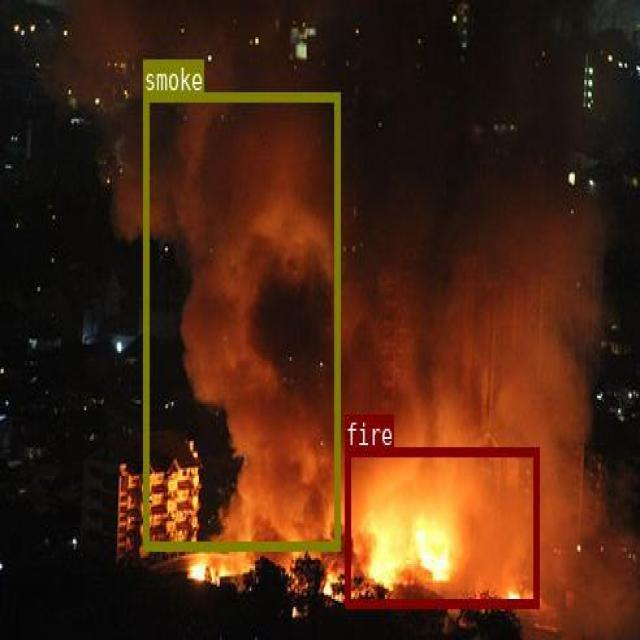fire: (344, 446, 538, 606)
smoke: (143, 91, 339, 548)
